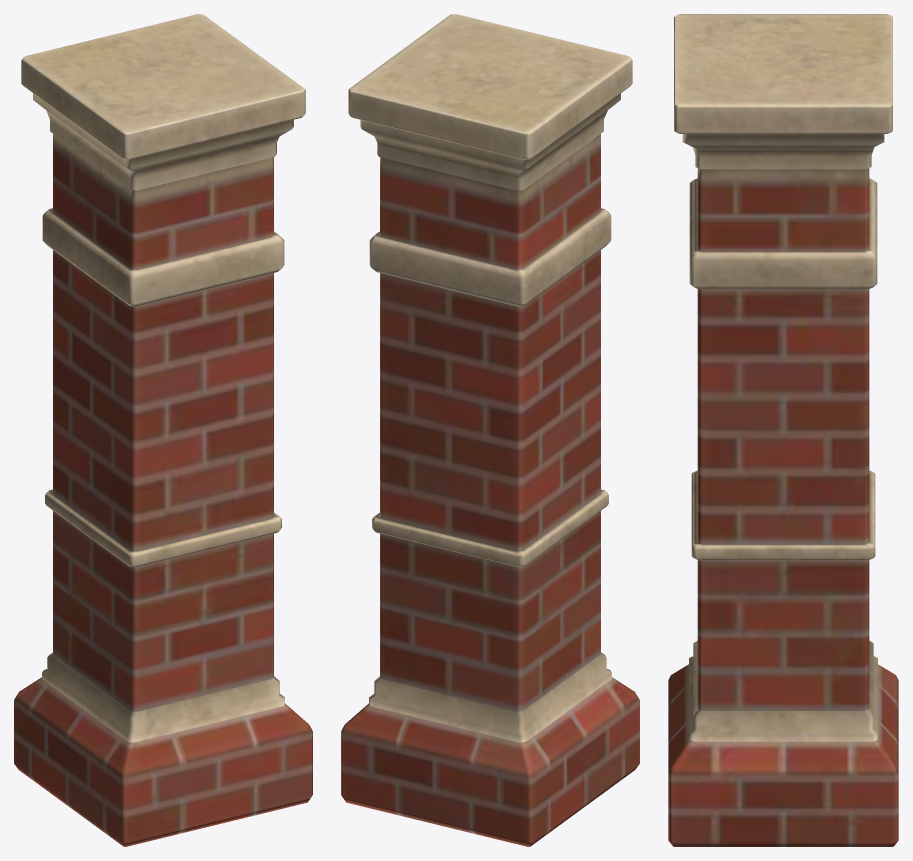
3 renders of one model, left to right at view 1: azimuth 30°, elevation 25°; view 2: azimuth 150°, elevation 25°; view 3: azimuth 270°, elevation 25°, orthographic. The views are drawn at different scales.
Bounding box in the file's own units: 7.86 × 27.87 × 7.86.
Materials: 1 (1 with a texture image).
